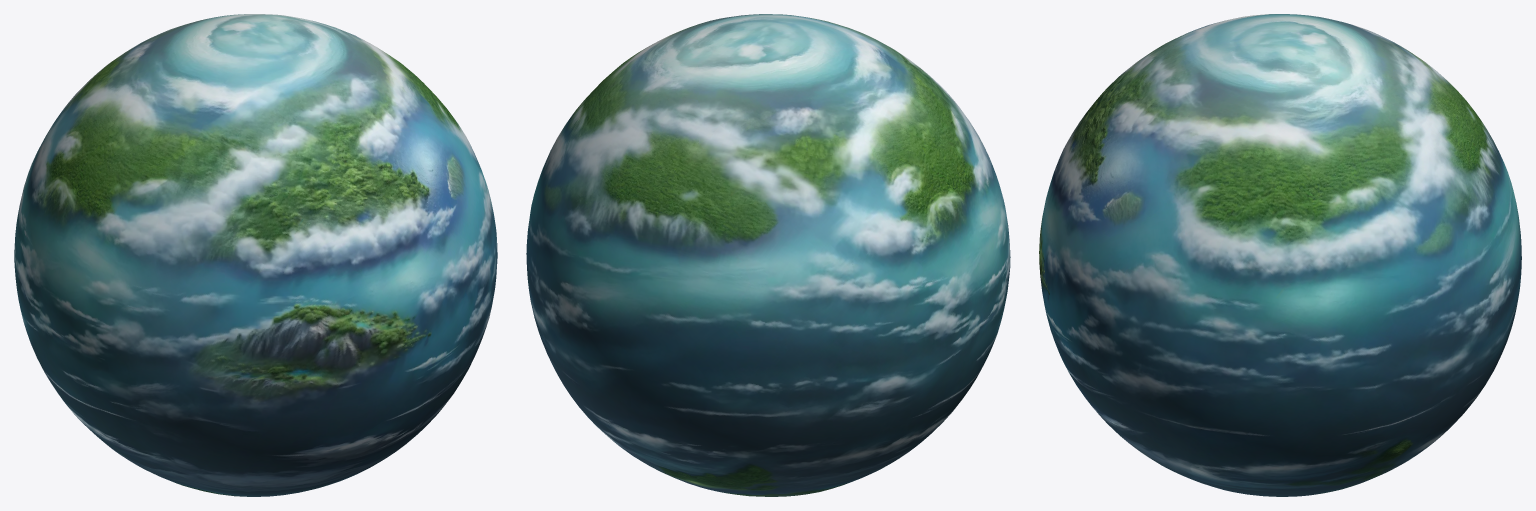
Rendered from normal_planet_5.glb.
The picture shows the model from 3 angles, left to right: view 1: azimuth 30°, elevation 25°; view 2: azimuth 150°, elevation 25°; view 3: azimuth 270°, elevation 25°; orthographic projection.
Parts seen in each view (by area): view 1: Mesh_0.042; view 2: Mesh_0.042; view 3: Mesh_0.042.
Part boxes in pixels (x1,y1,x2,y2): Mesh_0.042: (14, 14, 497, 496); Mesh_0.042: (526, 14, 1010, 496); Mesh_0.042: (1039, 14, 1521, 496).
Bounding box in the file's own units: 2 × 2 × 2.
Materials: 1 (1 with a texture image).
